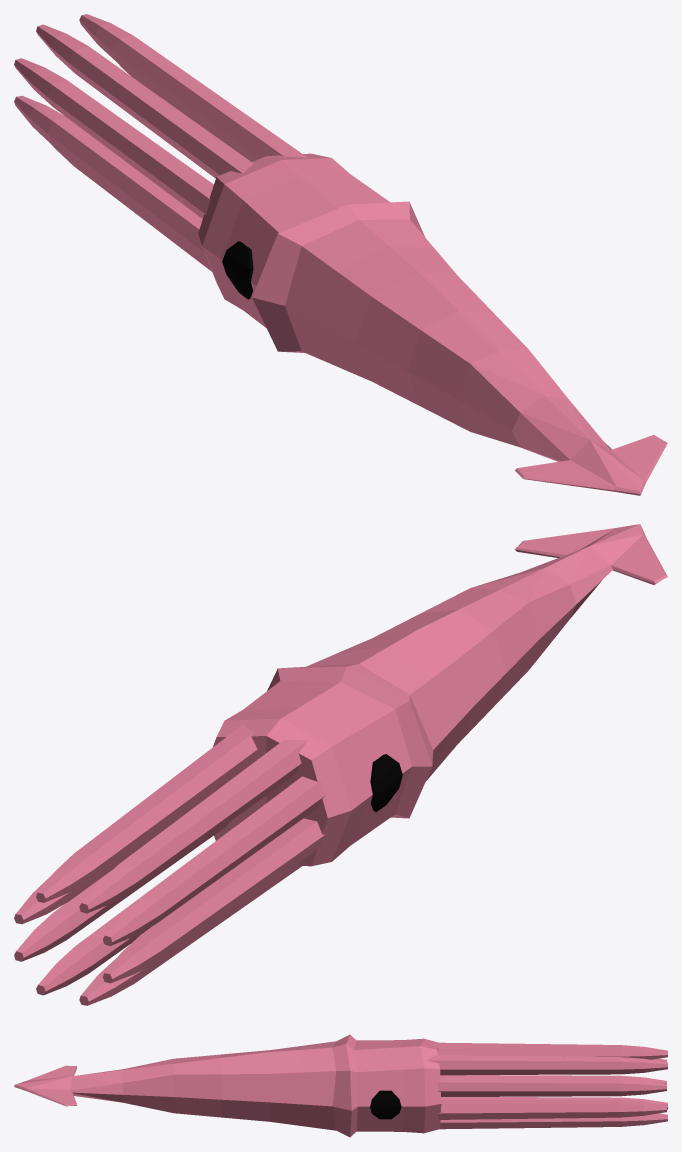
Rendered from squid.glb.
The picture shows the model from 3 angles, top to bottom: view 1: azimuth 30°, elevation 25°; view 2: azimuth 150°, elevation 25°; view 3: azimuth 270°, elevation 25°; orthographic projection. The views are drawn at different scales.
Visible parts, largest first — view 1: Cube; view 2: Cube; view 3: Cube.
Part boxes in pixels (x1,y1,x2,y2): Cube: [14, 14, 667, 495]; Cube: [14, 524, 667, 1005]; Cube: [14, 1034, 667, 1137].
Bounding box in the file's own units: 2.92 × 2.3 × 16.21.
